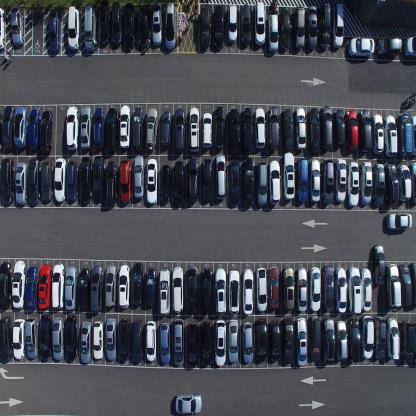car: (396, 113, 413, 157), (386, 263, 402, 309), (0, 157, 15, 205), (400, 319, 416, 364), (90, 263, 104, 314), (12, 259, 26, 310), (398, 263, 413, 308), (214, 318, 228, 366), (348, 266, 362, 314), (384, 162, 399, 206), (39, 110, 54, 154), (214, 267, 228, 314), (295, 317, 308, 367), (174, 391, 202, 414), (67, 6, 81, 52), (282, 151, 295, 200), (172, 108, 186, 153), (386, 316, 400, 361), (347, 317, 361, 362), (334, 320, 349, 362), (25, 315, 39, 360), (24, 266, 38, 311), (322, 265, 335, 313), (164, 1, 176, 52), (200, 267, 213, 314), (227, 108, 240, 155), (318, 3, 331, 50), (347, 160, 360, 207), (65, 315, 78, 362), (38, 263, 51, 310), (14, 104, 28, 147), (334, 158, 347, 204), (321, 158, 334, 204), (64, 264, 77, 310), (93, 154, 105, 203), (80, 155, 92, 204), (27, 108, 41, 150), (322, 316, 334, 365), (0, 261, 12, 310), (200, 320, 213, 365), (331, 3, 344, 48), (98, 0, 111, 45), (48, 8, 61, 53), (66, 106, 79, 151), (282, 266, 295, 311), (373, 315, 386, 360), (118, 316, 131, 361), (173, 318, 185, 366), (214, 152, 226, 200), (28, 156, 40, 204), (158, 268, 170, 316), (52, 262, 64, 310), (39, 314, 51, 362), (0, 315, 12, 363), (10, 5, 24, 46), (243, 156, 254, 208), (348, 36, 374, 58), (384, 113, 397, 157), (359, 161, 372, 205), (2, 105, 15, 149), (104, 264, 117, 308), (397, 164, 412, 202), (241, 107, 253, 154), (84, 5, 96, 52), (296, 156, 308, 203), (335, 266, 347, 313), (241, 320, 254, 363), (345, 109, 358, 152), (372, 162, 385, 205), (40, 160, 53, 203), (12, 317, 25, 360), (146, 158, 158, 204), (186, 322, 198, 368), (228, 270, 240, 316), (308, 108, 320, 154), (309, 158, 321, 204), (268, 159, 280, 205), (133, 154, 145, 200), (15, 160, 27, 206), (309, 266, 321, 312), (171, 266, 183, 312), (132, 318, 144, 364), (118, 264, 130, 310), (376, 37, 402, 58), (372, 243, 385, 285), (188, 107, 200, 152), (187, 157, 199, 202), (227, 317, 239, 362), (256, 267, 268, 312), (268, 106, 280, 151), (294, 106, 306, 151), (119, 104, 131, 149), (106, 107, 118, 152), (106, 160, 118, 205), (54, 157, 66, 202), (360, 267, 372, 312), (361, 315, 373, 360), (309, 316, 321, 361), (52, 316, 64, 361), (187, 266, 198, 315), (283, 316, 294, 365), (371, 113, 384, 154), (146, 107, 158, 151), (255, 317, 267, 361), (293, 6, 305, 50), (124, 2, 135, 50), (282, 108, 294, 152), (359, 109, 371, 153), (80, 106, 92, 150), (268, 266, 280, 310), (269, 319, 281, 363), (132, 262, 144, 306), (105, 317, 117, 361), (78, 267, 90, 311), (174, 160, 185, 207), (256, 159, 267, 206), (254, 107, 266, 150), (200, 5, 212, 48), (120, 159, 132, 202), (386, 211, 413, 230), (229, 160, 240, 206), (111, 0, 122, 46), (93, 108, 105, 150), (66, 160, 78, 202), (145, 320, 157, 362), (202, 158, 213, 203), (240, 3, 251, 48), (306, 5, 317, 50), (321, 105, 332, 150), (132, 107, 143, 152), (296, 267, 307, 312), (267, 12, 279, 53), (92, 319, 104, 360), (254, 1, 265, 45), (138, 4, 149, 48), (80, 320, 91, 364), (160, 164, 172, 204), (243, 267, 253, 314), (334, 107, 346, 146), (227, 2, 238, 43), (214, 5, 224, 50), (280, 6, 290, 51), (152, 1, 162, 46), (160, 321, 170, 365), (214, 106, 224, 149), (201, 111, 212, 149), (146, 266, 156, 307), (160, 110, 171, 145), (409, 161, 416, 205), (403, 36, 416, 58), (410, 260, 415, 306), (0, 6, 5, 49), (412, 114, 416, 156), (0, 110, 3, 151)
